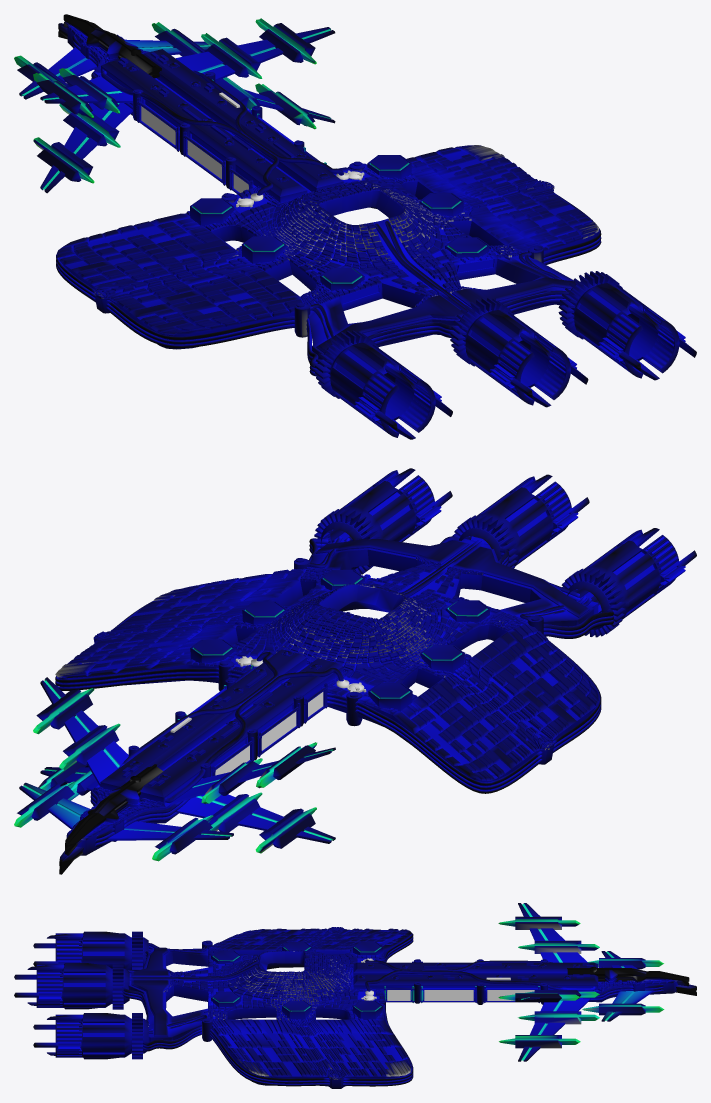
Rendered from ad_carrier_01.fbx.
3 views of the same model, one above another, from view 1: azimuth 30°, elevation 25°; view 2: azimuth 150°, elevation 25°; view 3: azimuth 270°, elevation 25° (orthographic). The views are drawn at different scales.
Parts seen in each view (by area): view 1: ad_carrier_01; view 2: ad_carrier_01; view 3: ad_carrier_01.
Part boxes in pixels (x1,y1,x2,y2): ad_carrier_01: [14, 14, 696, 439]; ad_carrier_01: [14, 468, 696, 874]; ad_carrier_01: [14, 903, 696, 1088].
Bounding box in the file's own units: 8393 × 1725 × 15969.
